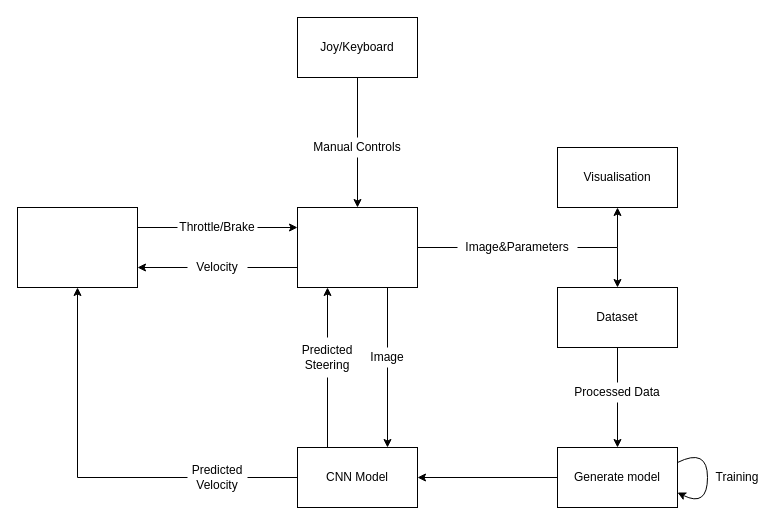
The diagram is 776 pixels wide and 525 high, and some of its shapes have lost their labels. The shapes that lost their labels are listed below. From the top down, each one's centre as x and y in pixels, then its label:
the point at 77,247: PID Controller
the point at 357,247: PRIUS
